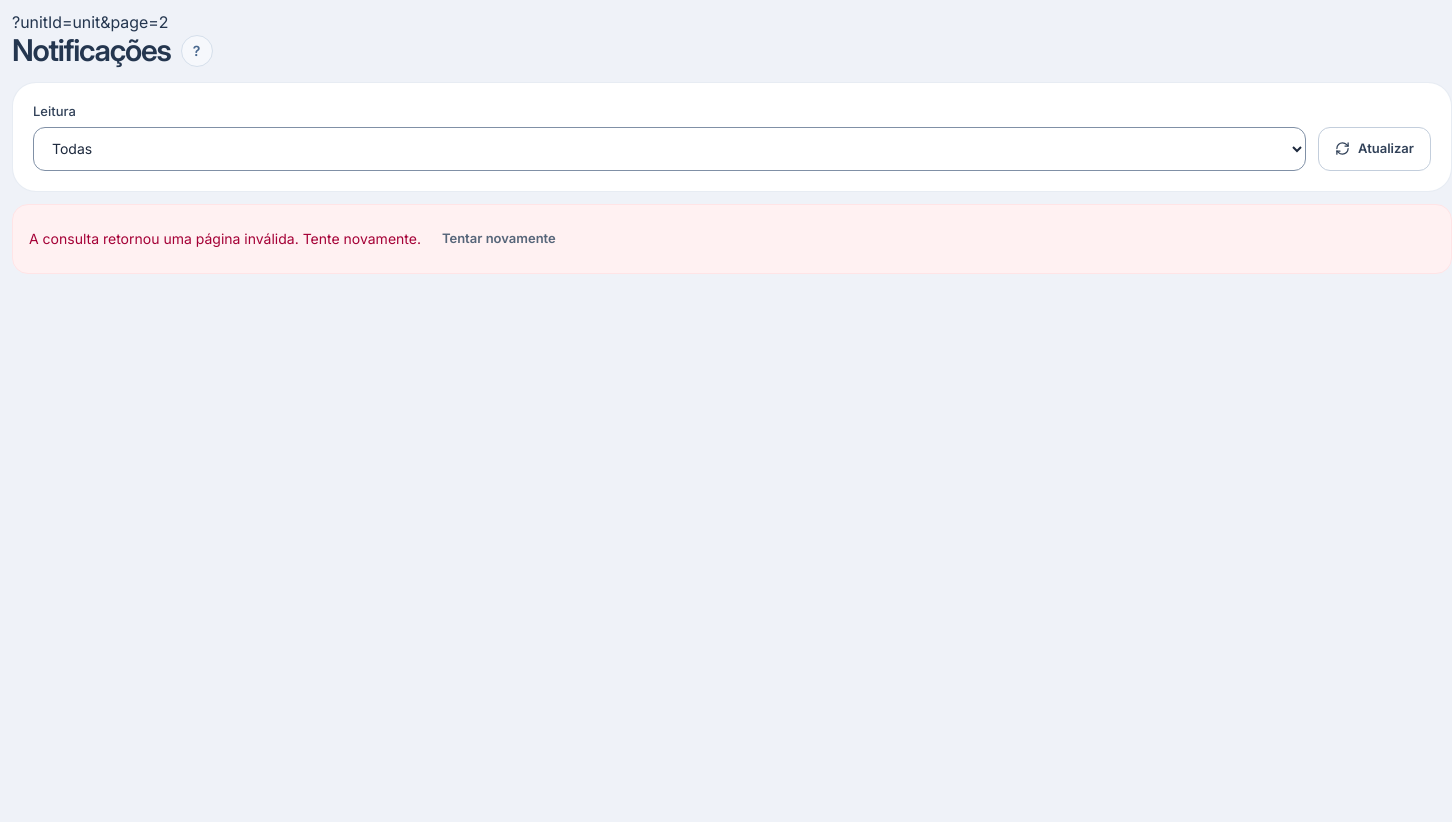
Test case: cache verificado antes de exibir notificações › mantém a negativa ao navegar ou remontar uma página válida do cache até revalidar com a API
expect the text named "Endereço da consulta" shows "page=2": met, box [12,12,168,32]
expect the text "Aviso de outra página" is not shown: met
Click the button "Tentar novamente".
click(499, 238)  # box [425,216,573,260]
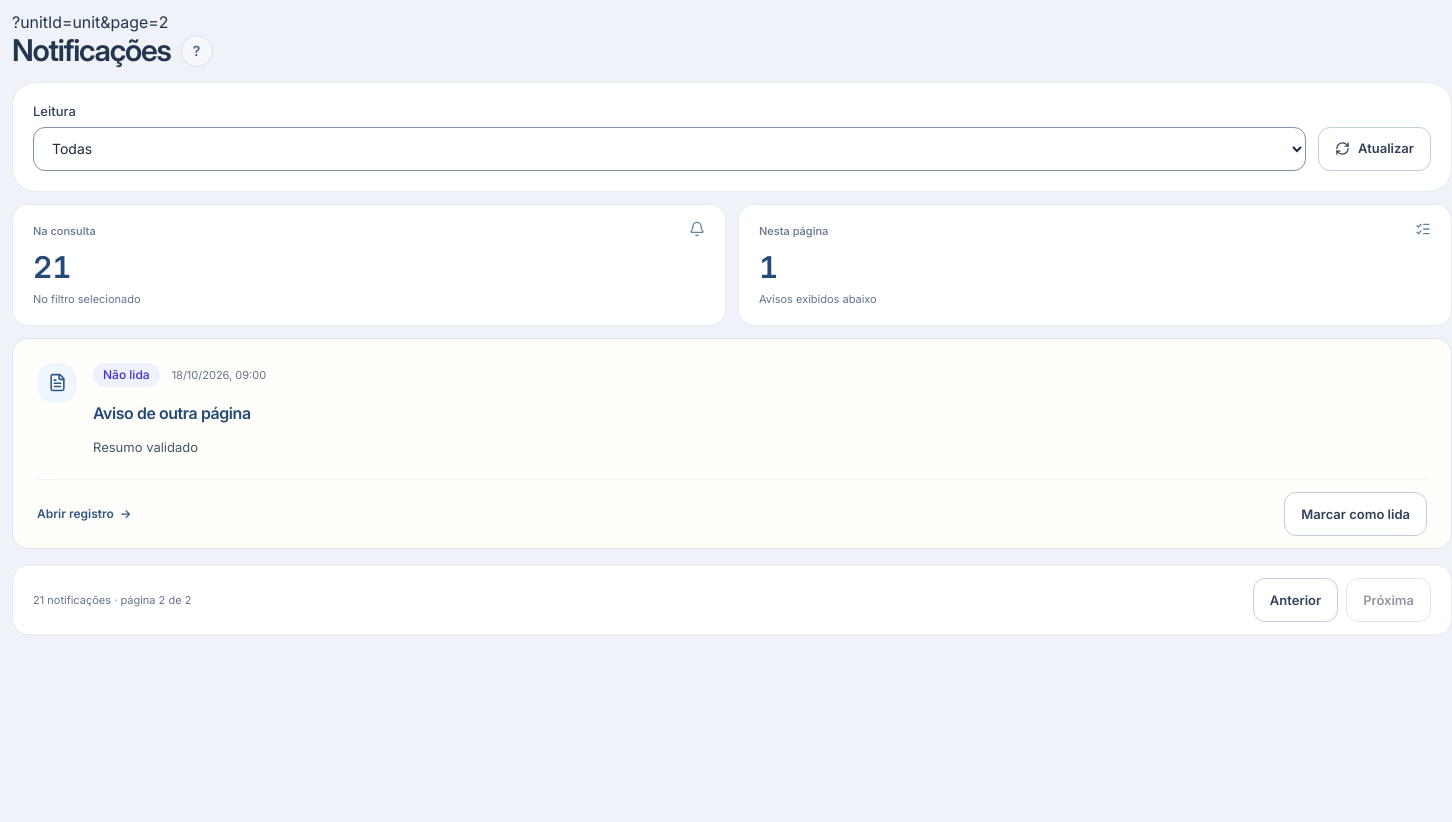
expect the element "Aviso de outra página" is shown: met, box [12,338,1451,549]
